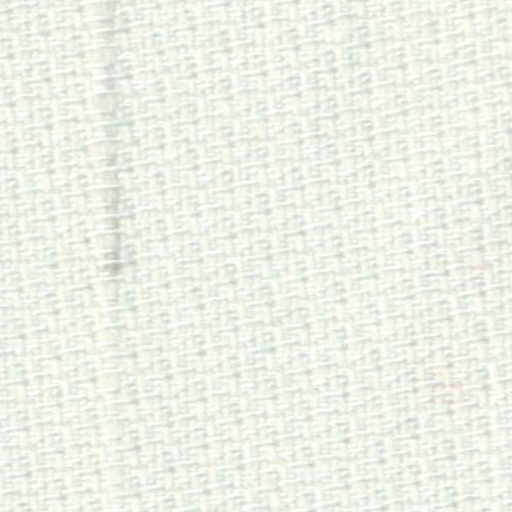DaiSha: (65, 6, 140, 458)
